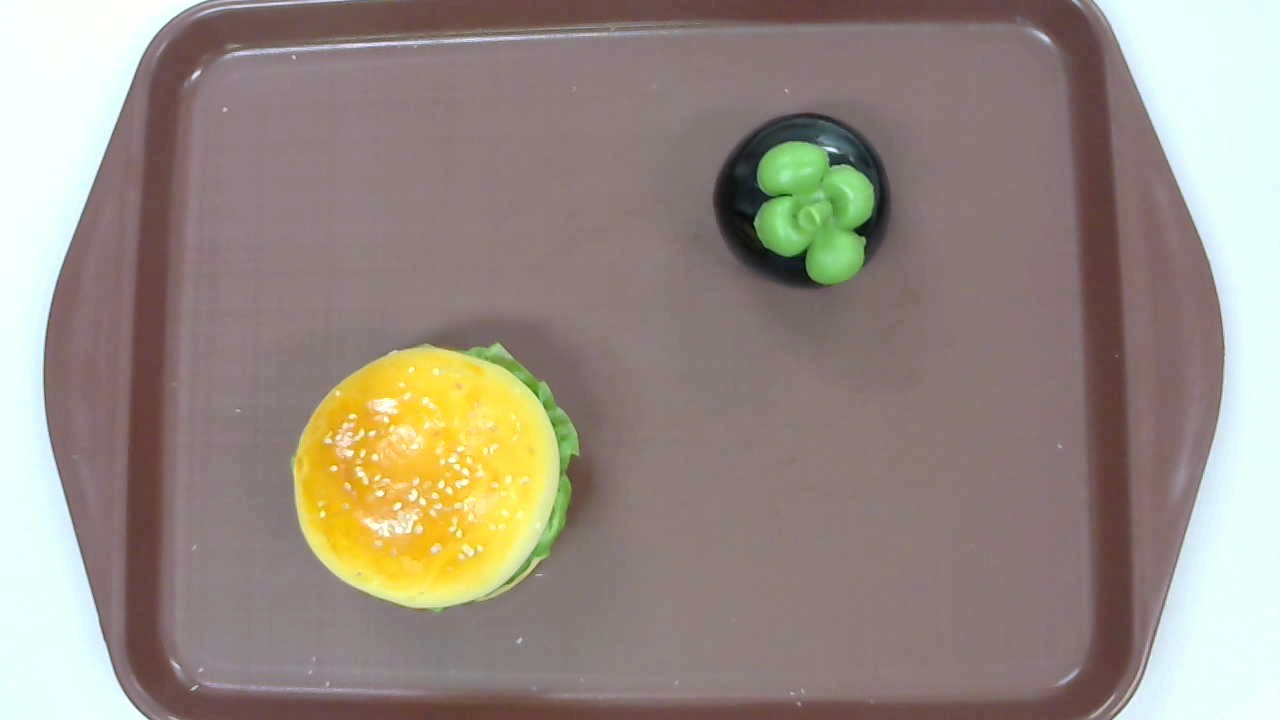hamburger: (293, 341, 580, 612)
mangosteen: (712, 112, 891, 291)
